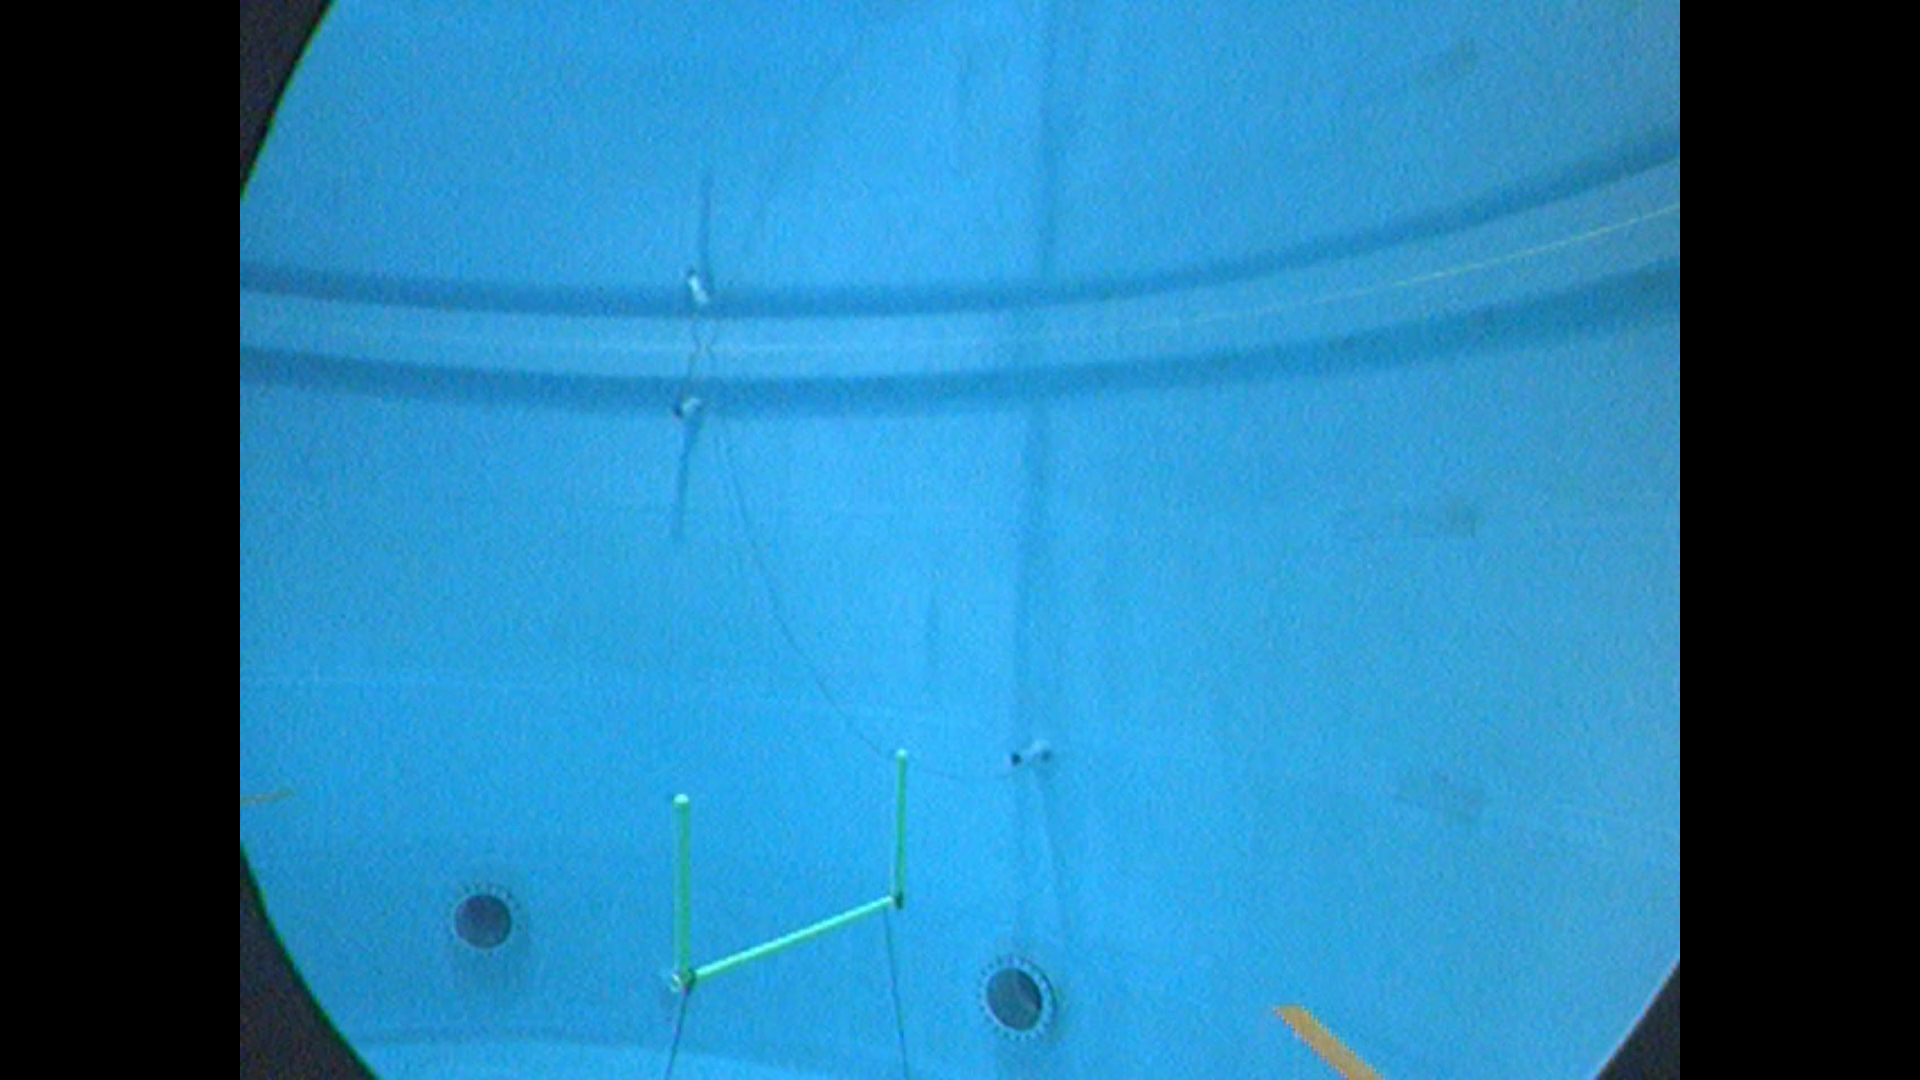gate: (667, 740, 918, 996)
